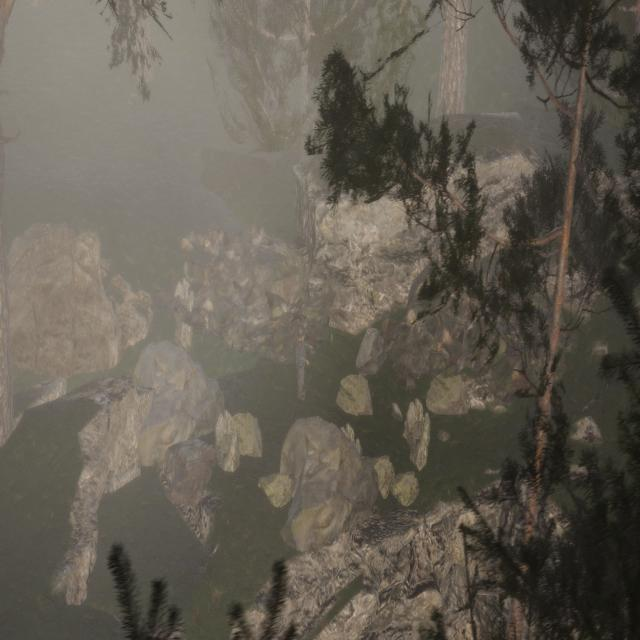Human: (282, 310, 316, 412)
